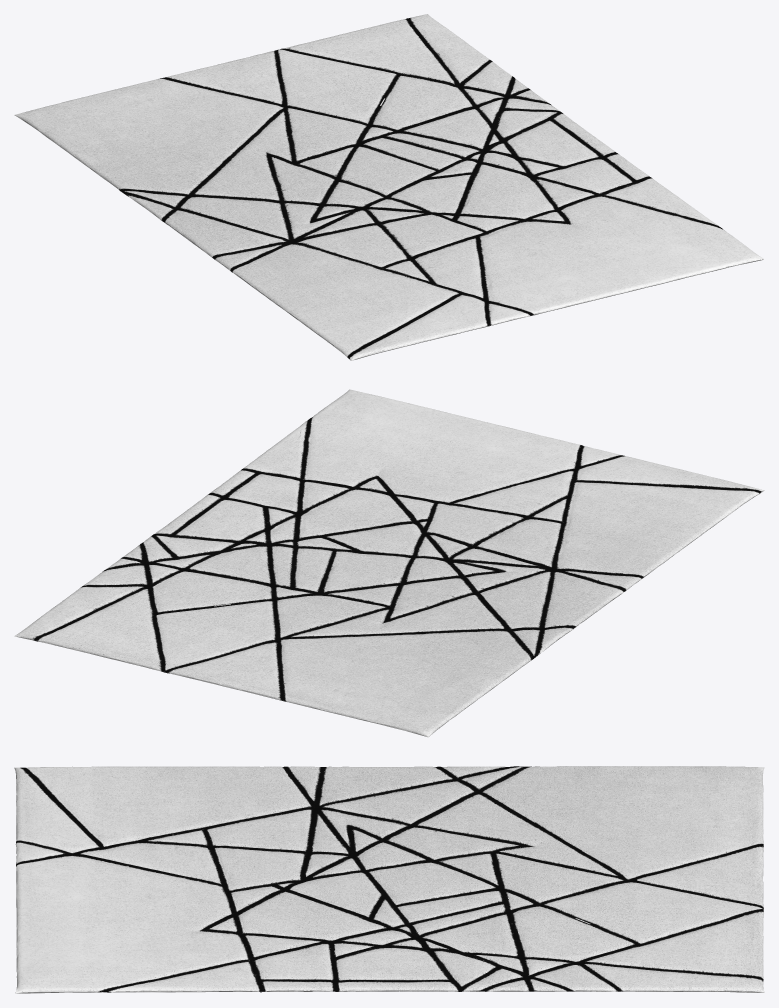
File: carpet_saloon_bedroom.dae
3 views of the same model, one above another, from view 1: azimuth 30°, elevation 25°; view 2: azimuth 150°, elevation 25°; view 3: azimuth 270°, elevation 25° (orthographic). The views are drawn at different scales.
Visible parts, largest first — view 1: _3DGeom_1_Defintion (×2); view 2: _3DGeom_1_Defintion (×2); view 3: _3DGeom_1_Defintion (×2).
Boxes of the visible parts, x1=… form: _3DGeom_1_Defintion (×2): x1=14, y1=14, x2=764, y2=360; _3DGeom_1_Defintion (×2): x1=14, y1=389, x2=764, y2=737; _3DGeom_1_Defintion (×2): x1=14, y1=766, x2=764, y2=993.
Bounding box in the file's own units: 60.1 × 84.34 × 0.6465.
2 materials, 2 textured.
